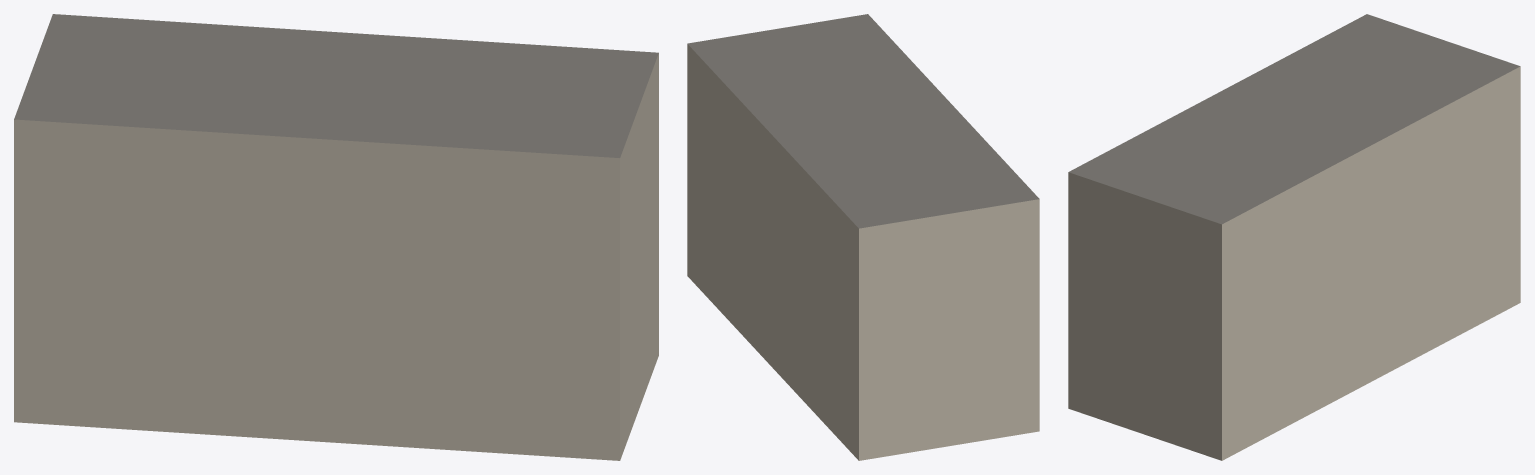
3 renders of one model, left to right at view 1: azimuth 30°, elevation 25°; view 2: azimuth 150°, elevation 25°; view 3: azimuth 270°, elevation 25°, orthographic. The views are drawn at different scales.
Parts seen in each view (by area): view 1: HP-w859488853; view 2: HP-w859488853; view 3: HP-w859488853.
Boxes of the visible parts, x1,y1,x2,y2 form: HP-w859488853: (14, 14, 658, 460); HP-w859488853: (687, 14, 1039, 460); HP-w859488853: (1068, 14, 1520, 460).
Bounding box in the file's own units: 34.35 × 18 × 31.2.
